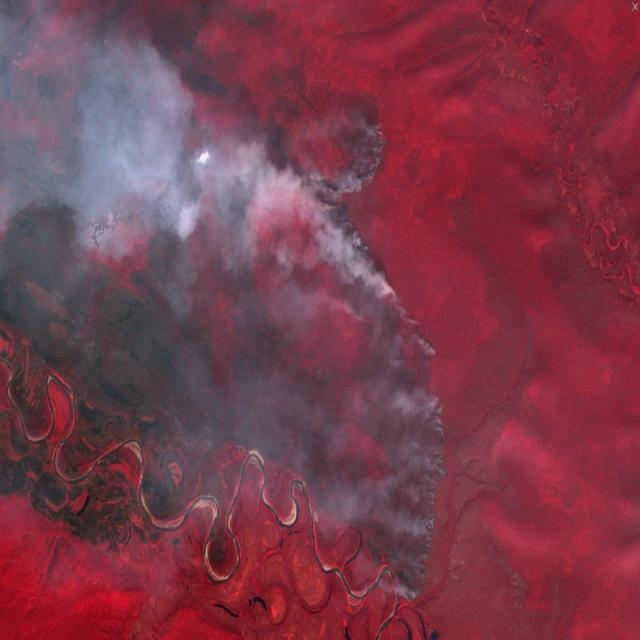fire: (307, 83, 451, 609)
